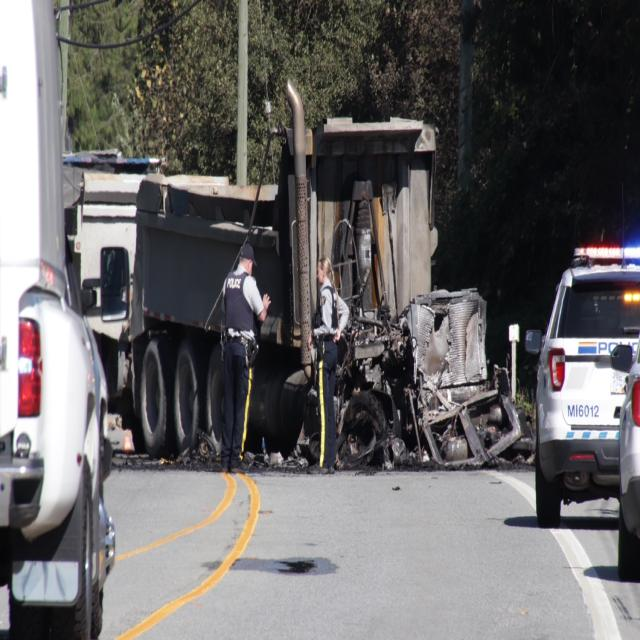Accident: (59, 78, 522, 473)
